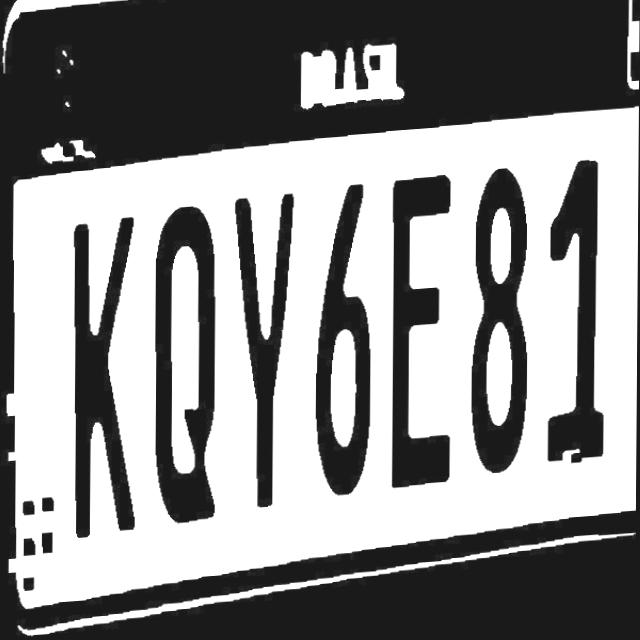1: (541, 164, 616, 477)
6: (310, 184, 387, 510)
8: (464, 173, 547, 491)
e: (381, 174, 468, 509)
k: (62, 215, 150, 553)
q: (152, 201, 226, 543)
y: (227, 190, 314, 519)
